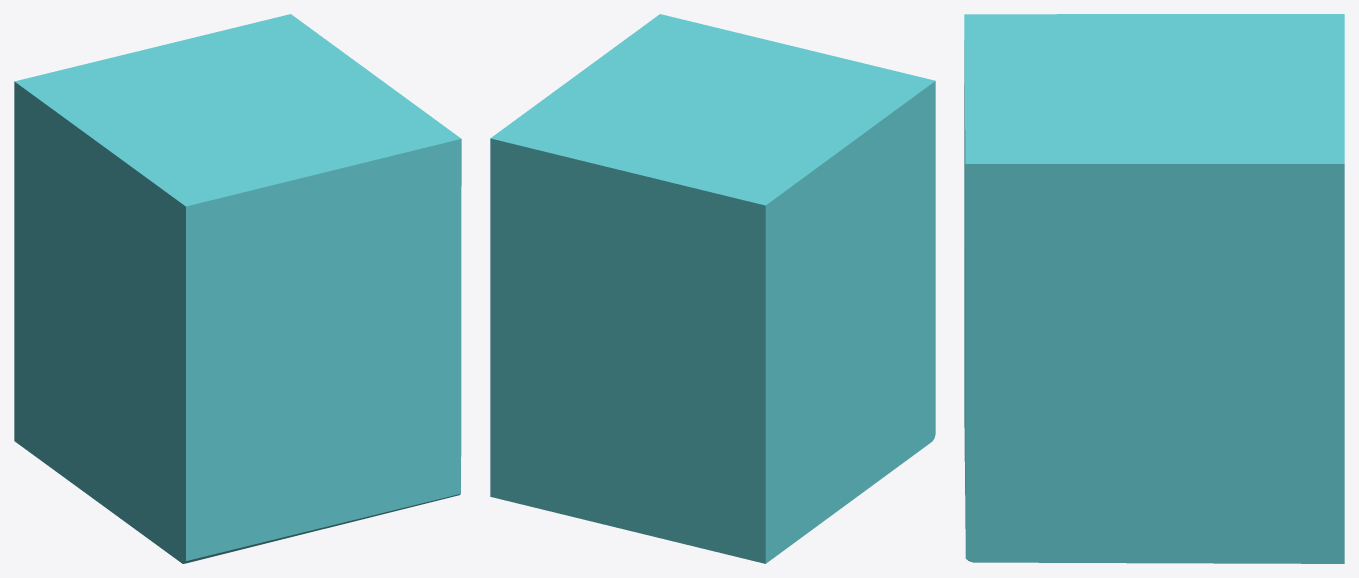
The picture shows the model from 3 angles, left to right: view 1: azimuth 30°, elevation 25°; view 2: azimuth 150°, elevation 25°; view 3: azimuth 270°, elevation 25°; orthographic projection. The views are drawn at different scales.
Visible parts, largest first — view 1: model_24.001; view 2: model_24.001; view 3: model_24.001.
Boxes of the visible parts, x1,y1,x2,y2 form: model_24.001: (14,14,461,563); model_24.001: (490,14,935,563); model_24.001: (964,14,1344,563).
Size of the model in its own units: 23.43 by 29.12 by 25.1.
